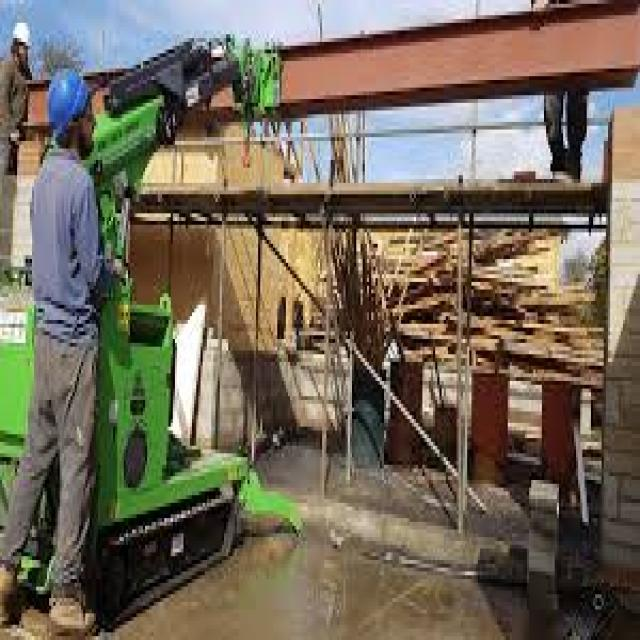steel beam: (0, 0, 639, 136)
